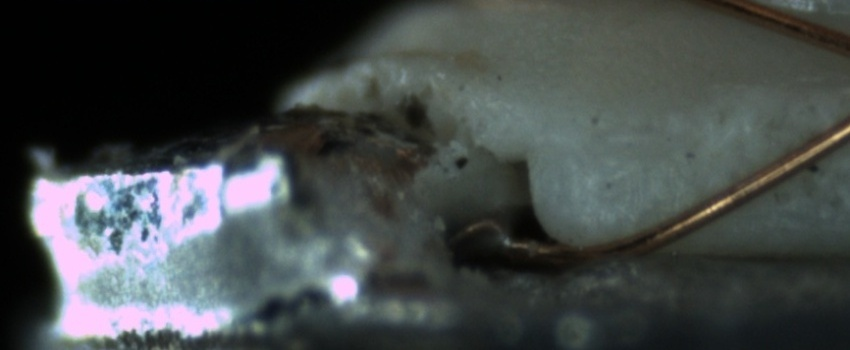DL: (578, 113, 676, 175)
